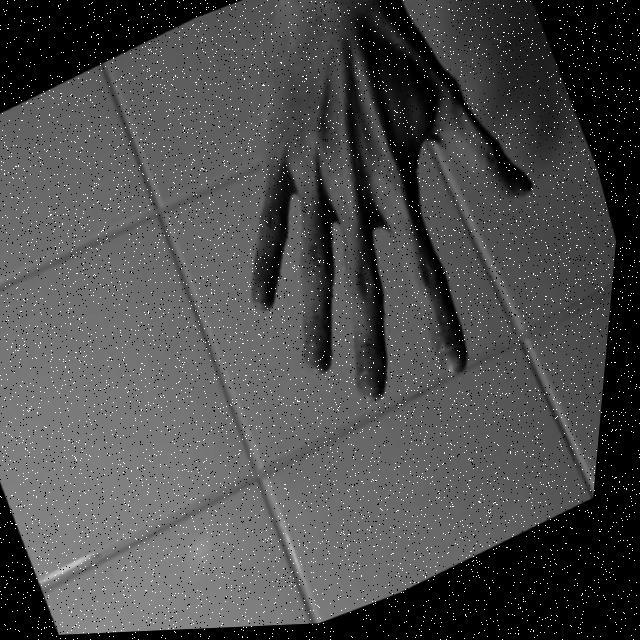no-gloves: (144, 0, 606, 449)
